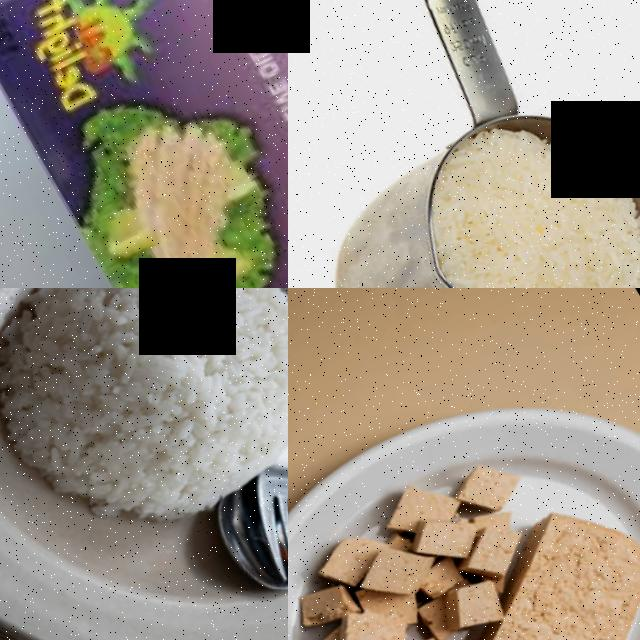tofu: (340, 523, 442, 612), (444, 507, 535, 585), (441, 442, 529, 521), (425, 561, 509, 637), (318, 582, 417, 640), (288, 568, 358, 636), (360, 622, 455, 640)
white rice: (0, 288, 288, 579), (398, 86, 640, 288)
